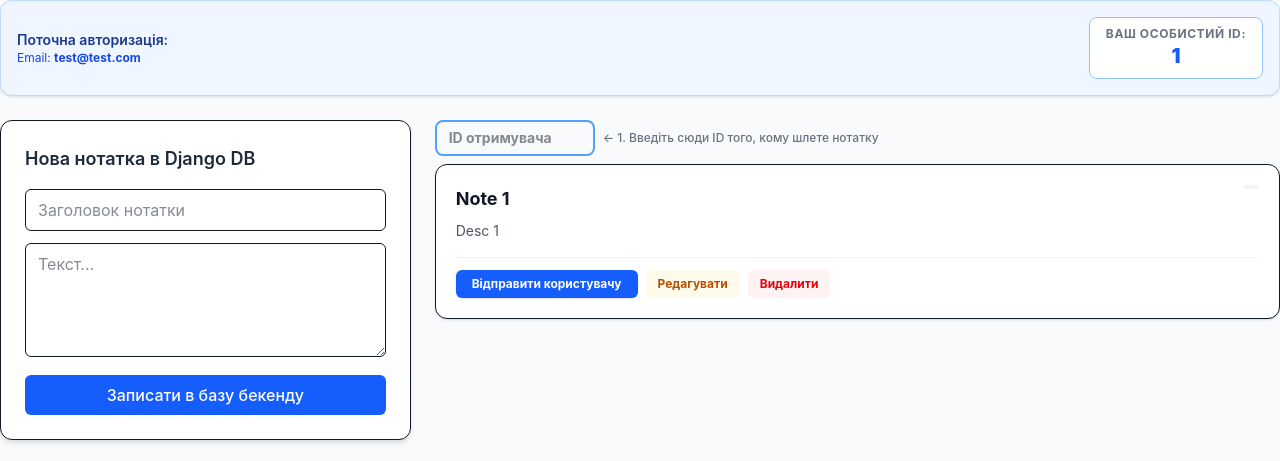
Test case: Workspace Component › handles edit button click
Expected: the heading "Note 1" is shown, x1=456 y1=185 x2=510 y2=213
Click the button "Редагувати" at (693, 284), box x1=646 y1=270 x2=740 y2=298
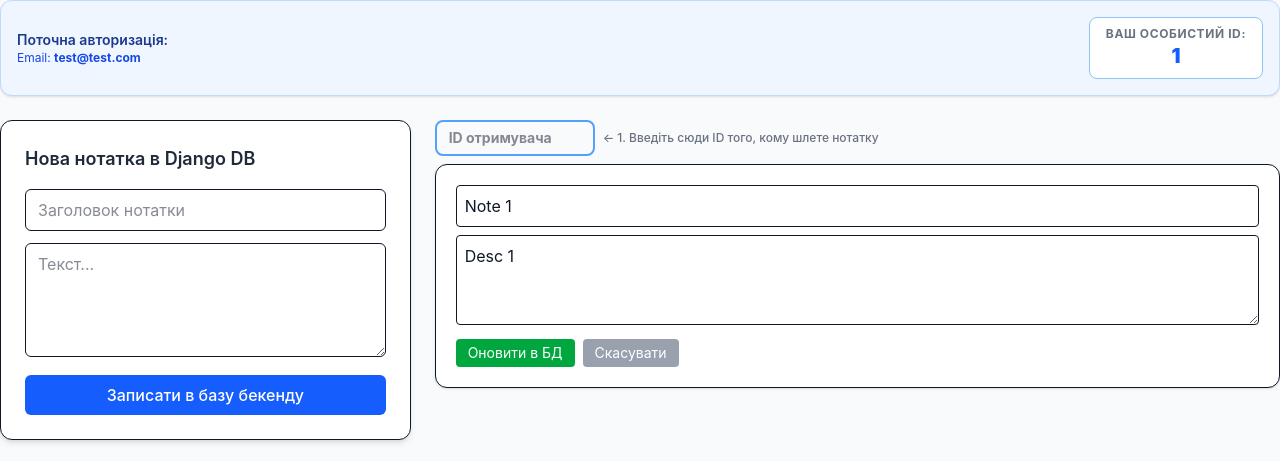
Result: the button "Оновити в БД" is shown at x1=456 y1=339 x2=574 y2=367
Result: the button "Скасувати" is shown at x1=582 y1=339 x2=679 y2=367
